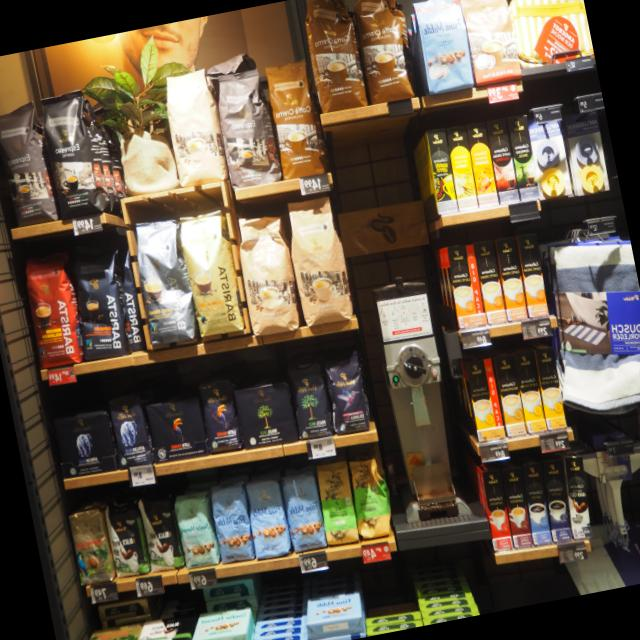AB Bohne: (105, 390, 158, 470)
AB Gemahlen: (49, 404, 120, 480)
Athiopien Bohne: (344, 453, 400, 542)
Athiopien Gemahlen: (310, 456, 366, 549)
BM Bohne: (284, 352, 338, 443)
BM Gemahlen: (234, 377, 300, 451)
BW Bohne: (136, 488, 187, 574), (102, 496, 154, 580)
BW Gemahlen: (138, 612, 199, 640)
Barista CB: (174, 208, 250, 346)
Barista CC: (126, 212, 202, 349)
Barista Espresso: (62, 240, 138, 364)
Barista Kolumbien: (17, 247, 92, 374)
C Fino Bohne: (318, 347, 378, 437)
CC Mild: (280, 192, 360, 334), (229, 208, 307, 338), (156, 66, 232, 192)
CC Vollmundig: (456, 0, 524, 90)
CC Vollmundig 36 Pads: (260, 58, 333, 184), (296, 0, 373, 118), (346, 0, 424, 107)
Colombia BB Bohne: (64, 499, 118, 589)
Colombia BB Gemahlen: (88, 621, 144, 640)
Empty Shelf: (248, 599, 308, 635), (362, 581, 421, 616), (417, 574, 475, 608)
Espresso Aromatisch: (208, 65, 286, 193)
FM 36 Pads: (407, 0, 478, 99)
FM Bohne: (205, 478, 260, 568), (241, 474, 297, 562), (277, 464, 331, 554)
LG Bohne: (194, 372, 248, 455)
LG Gemahlen: (144, 393, 210, 464)
SM Bohne: (170, 489, 224, 572)
SM Gemahlen: (307, 589, 364, 626), (192, 606, 252, 640)
Simo CC Colombia: (486, 117, 521, 205)
Simo CCMild: (464, 356, 506, 442)
Simo CCMild bigpack: (512, 349, 548, 435), (534, 345, 568, 430)
Simo CCVollmundig: (446, 242, 485, 329)
Simo CCVollmundig bigpack: (473, 238, 508, 325), (494, 235, 528, 323), (516, 232, 549, 318)
Simo Decaff: (494, 353, 527, 437)
Simo Es Brazil: (506, 114, 541, 201)
Simo Es Caramel: (465, 121, 500, 209)
Simo Es Elegant: (482, 467, 513, 551)
Simo Es Kraft: (502, 464, 533, 548)
Simo Es Vanilla: (447, 130, 480, 218)
Simo Kaffee BW: (563, 456, 593, 538)
Simo Kaffee Kraft: (540, 456, 573, 543)
Simo Kaffee Mild: (520, 461, 553, 546)
Simo Sunrise: (425, 126, 459, 217)
